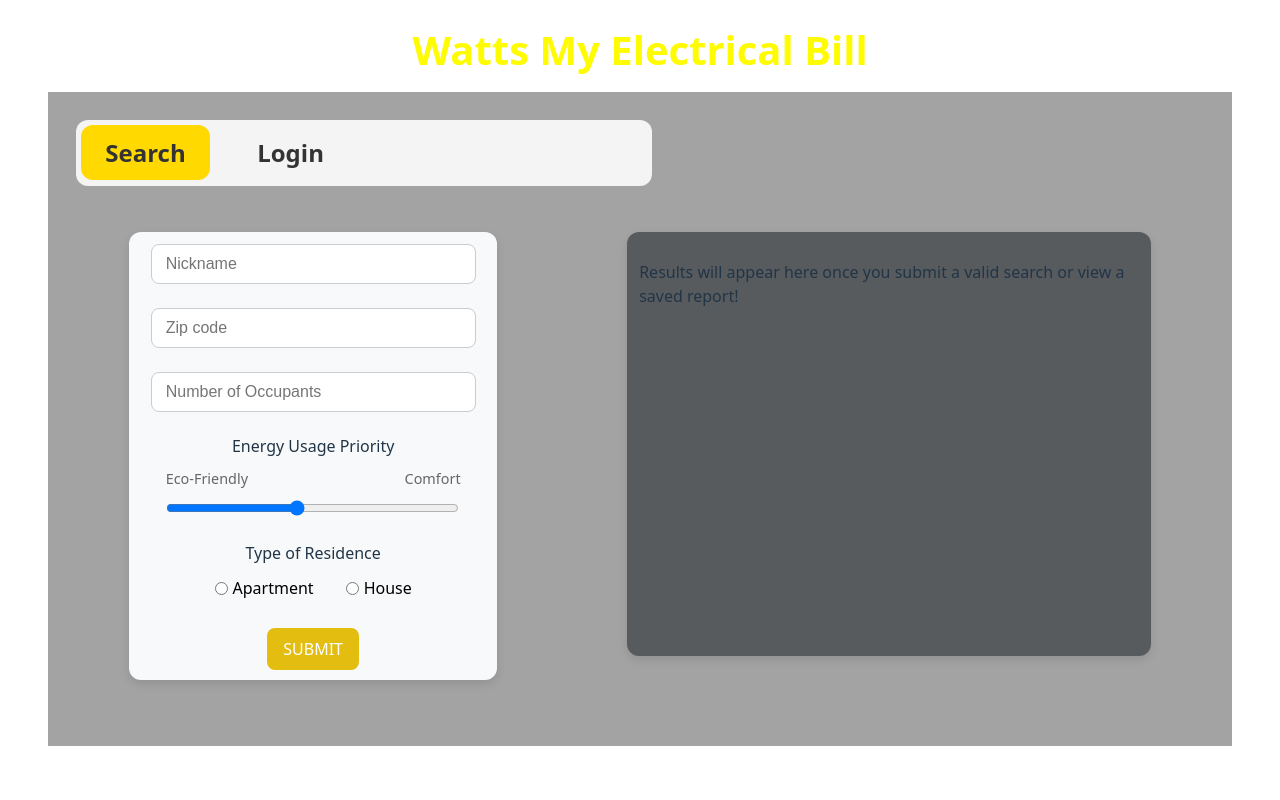
HomeContainer and ResultsContainer › displays the correct error when occupant field is invalid
This screenshot has width=1280, height=800.
In the field named "nickname": (314, 264) [151,244,476,284], type "Test Home"
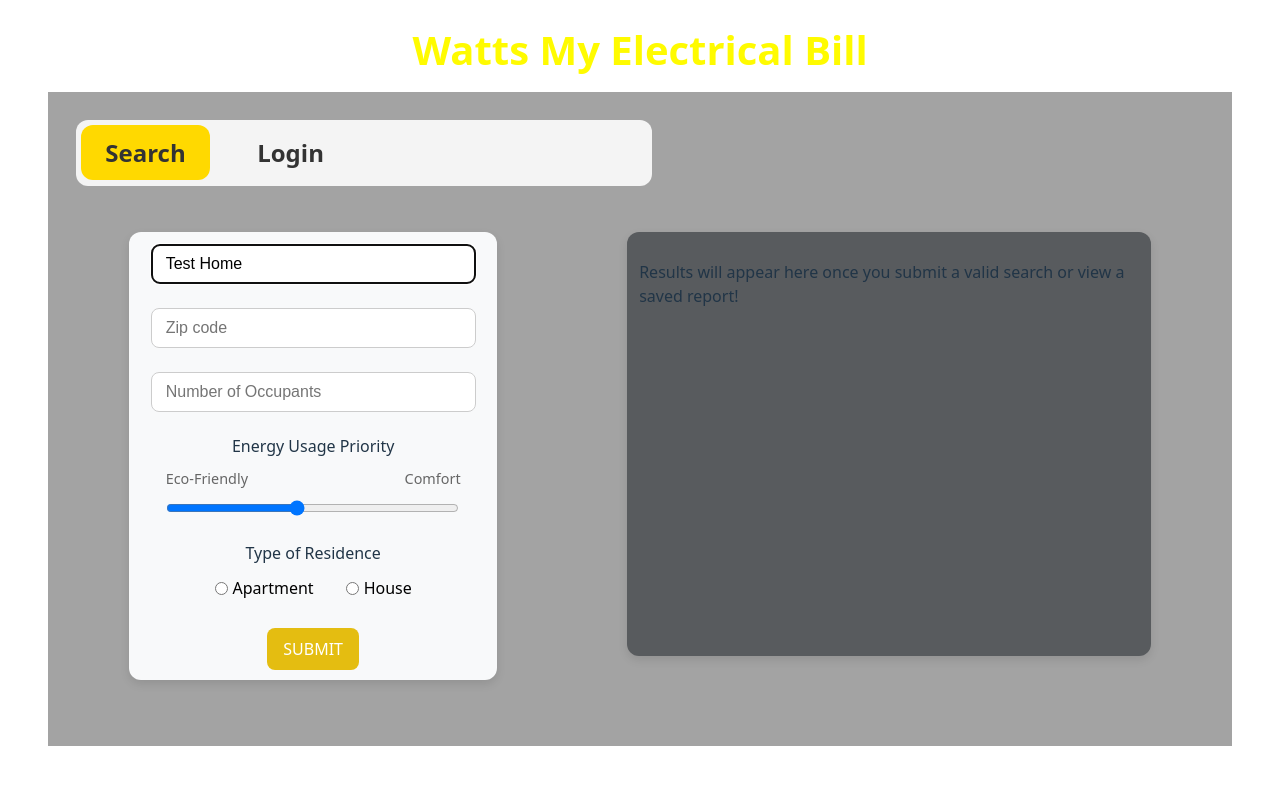
In the field named "zipcode": (314, 328) [151,308,476,348], type "80236"
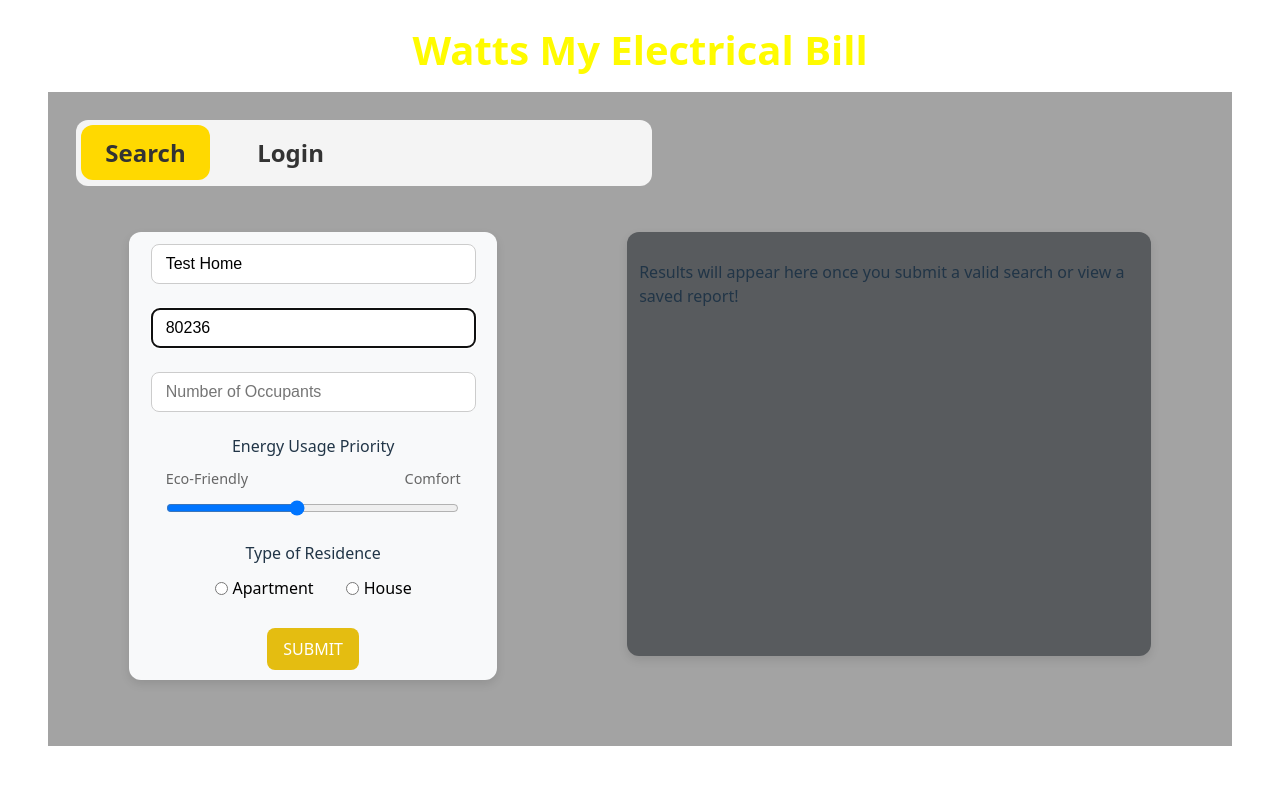
Check the radio button labelled "Apartment": (222, 589) [215,582,228,595]
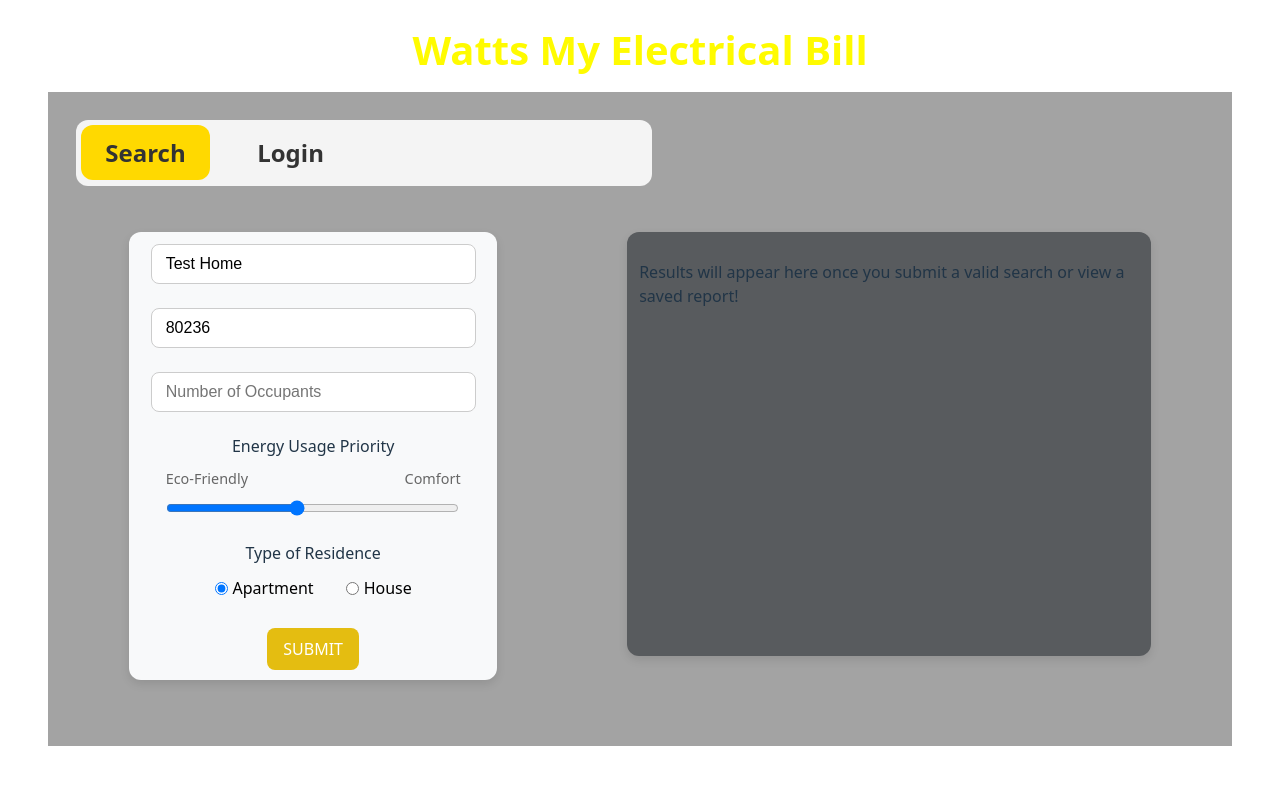
Set the slider named "energyUsage" to "7": (359, 508) [166,502,459,514]
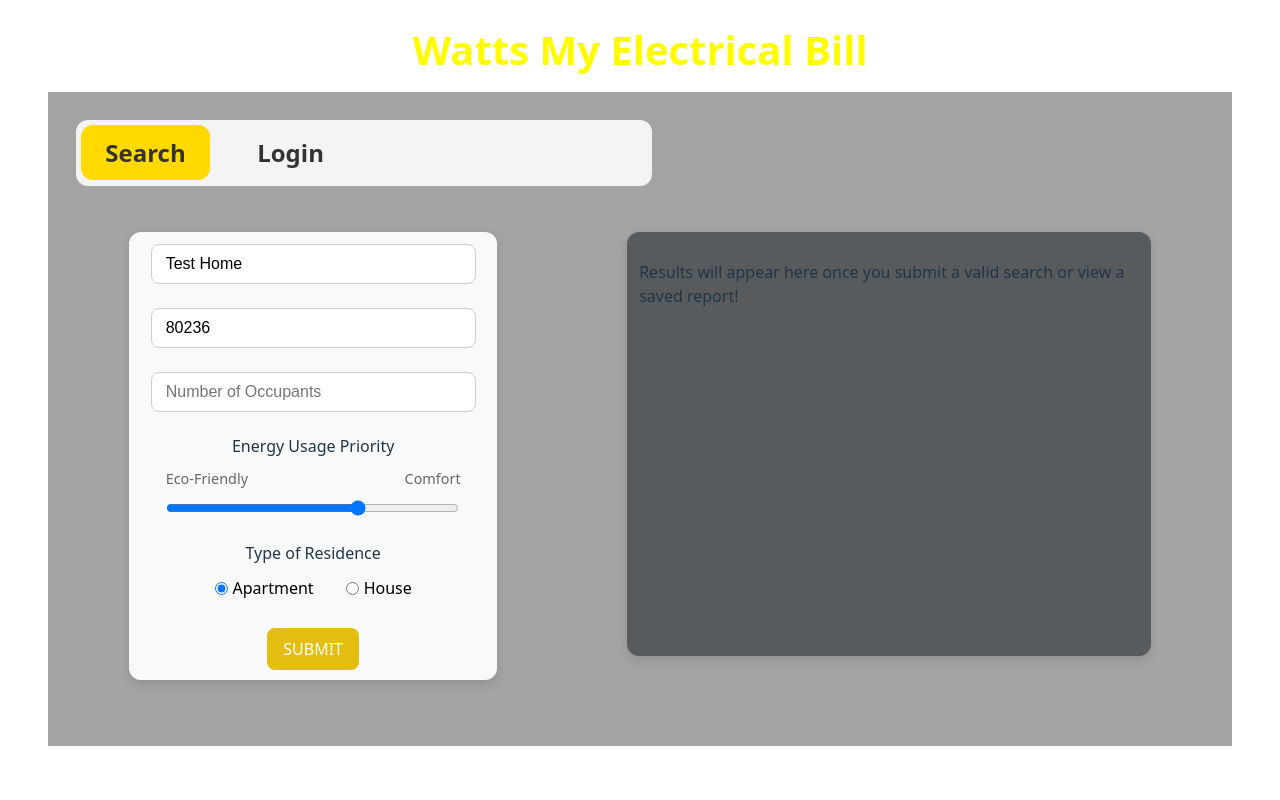
In the number field named "occupants": (314, 392) [151,372,476,412], type "0"
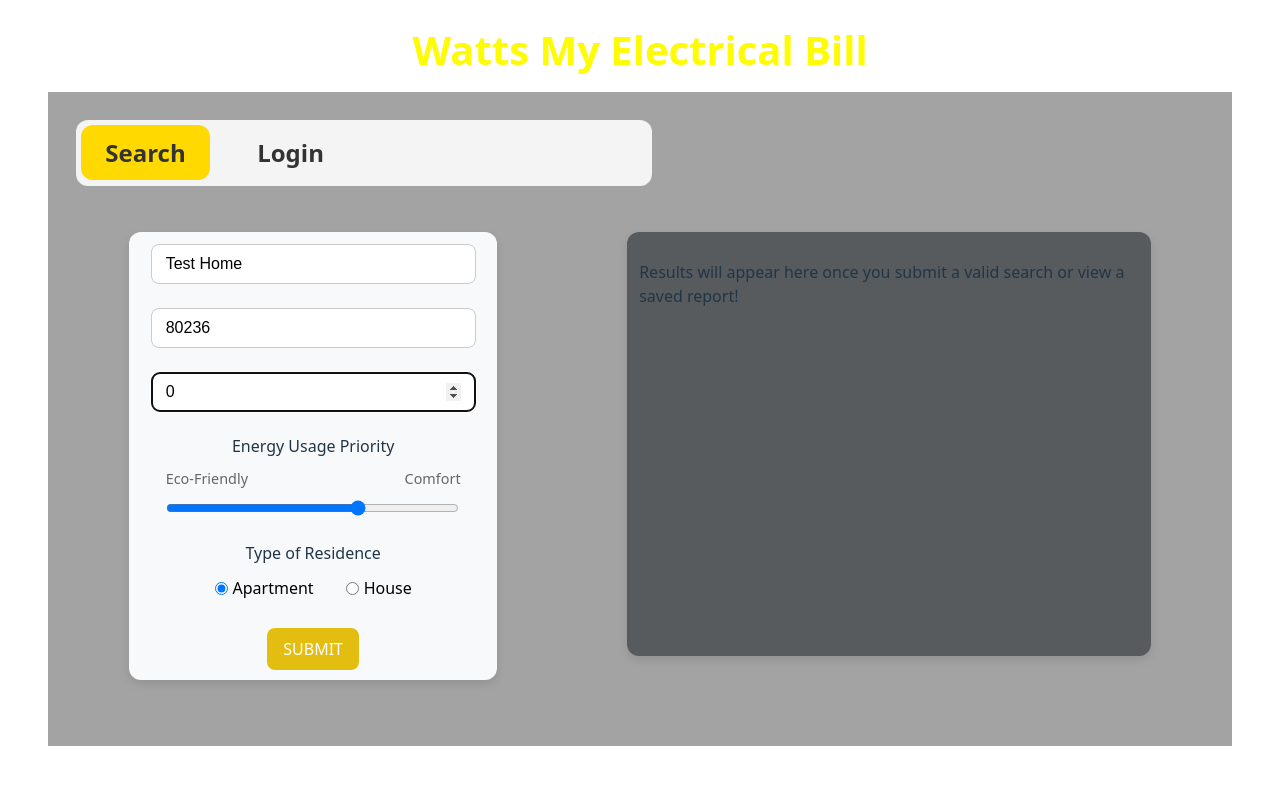
Click the submit button: click(313, 649) [267,628,359,670]
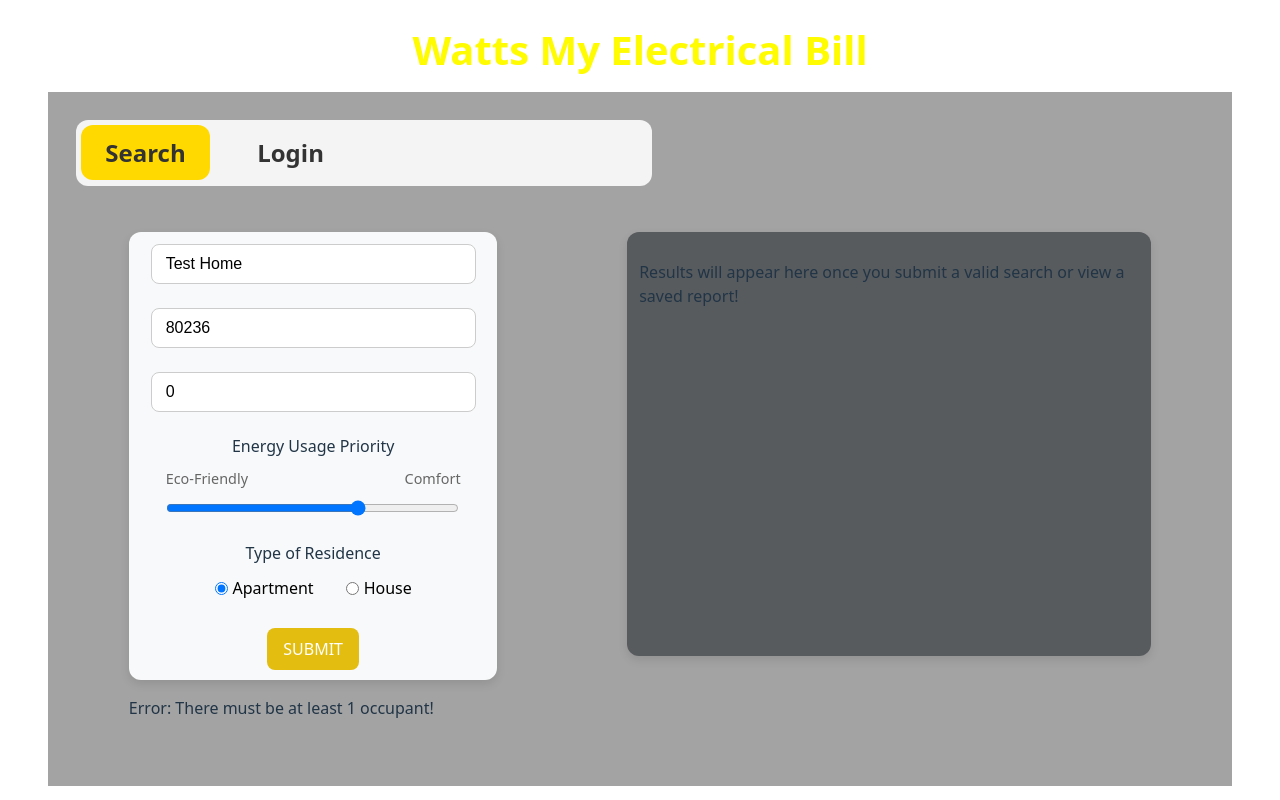
Expected: the form is shown, [129,232,498,680]
Now the text "Error: There must be at least 1 occupant!" is shown, box [129,697,434,719]
